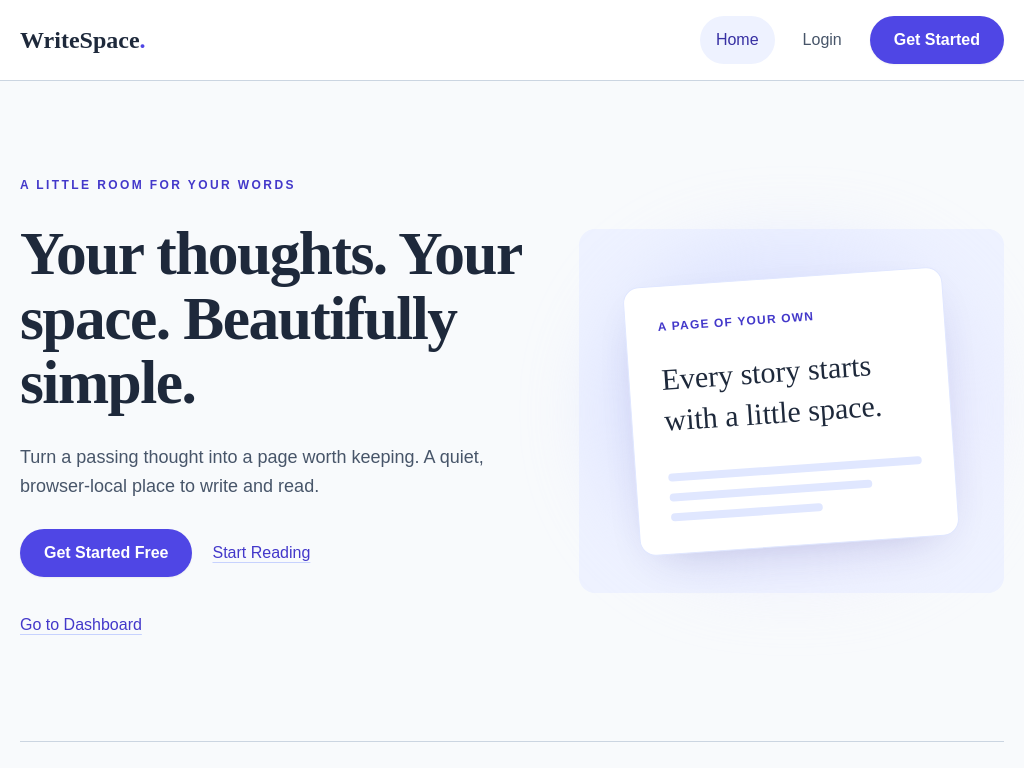
Scenario: guest Go to Dashboard enters /login through a real App click
This screenshot has width=1024, height=768.
Click the link "Go to Dashboard".
click(81, 624)  # box [20,616,142,633]
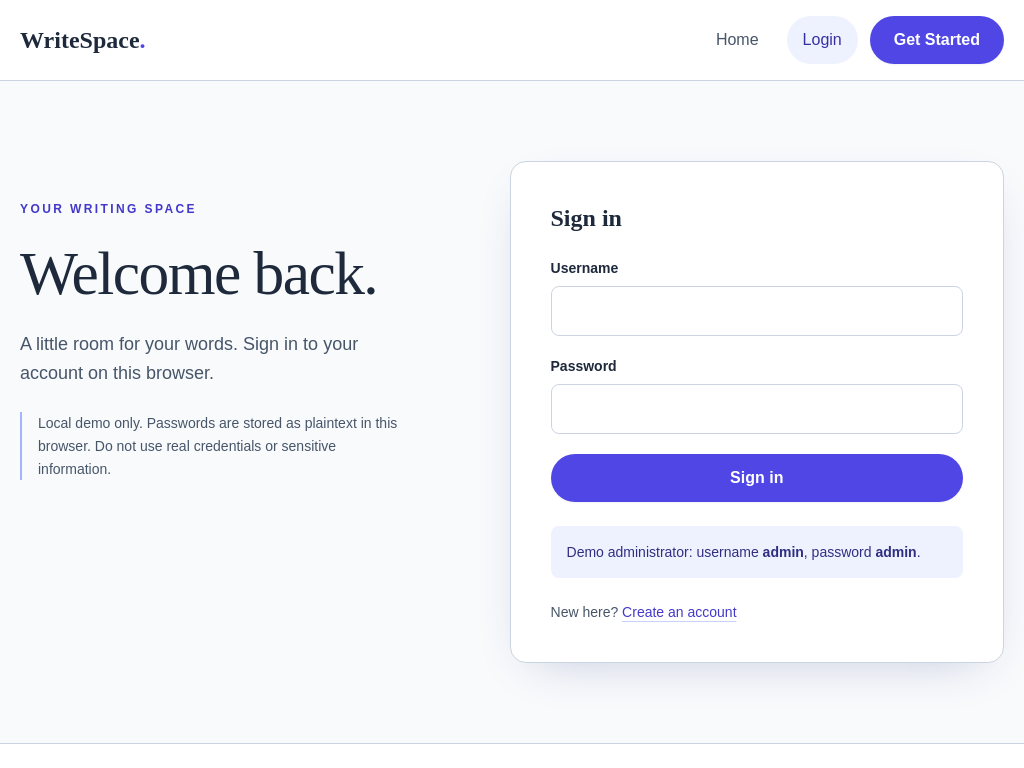
Check: the heading "Sign in" is shown, box [550,205,622,231]
